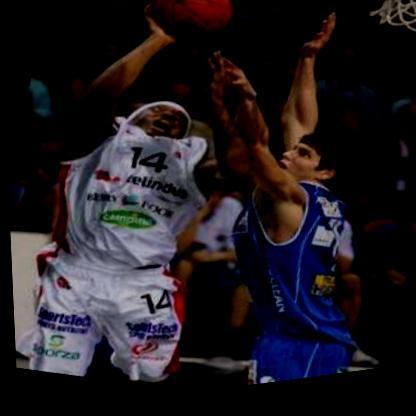basketball: (139, 0, 241, 64)
